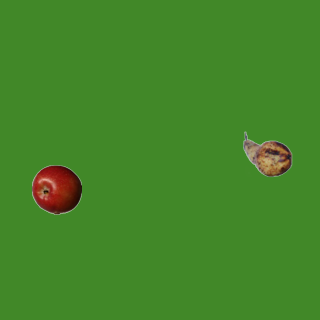Apple Braeburn: (31, 164, 81, 214)
Pear Abate: (242, 129, 292, 179)
